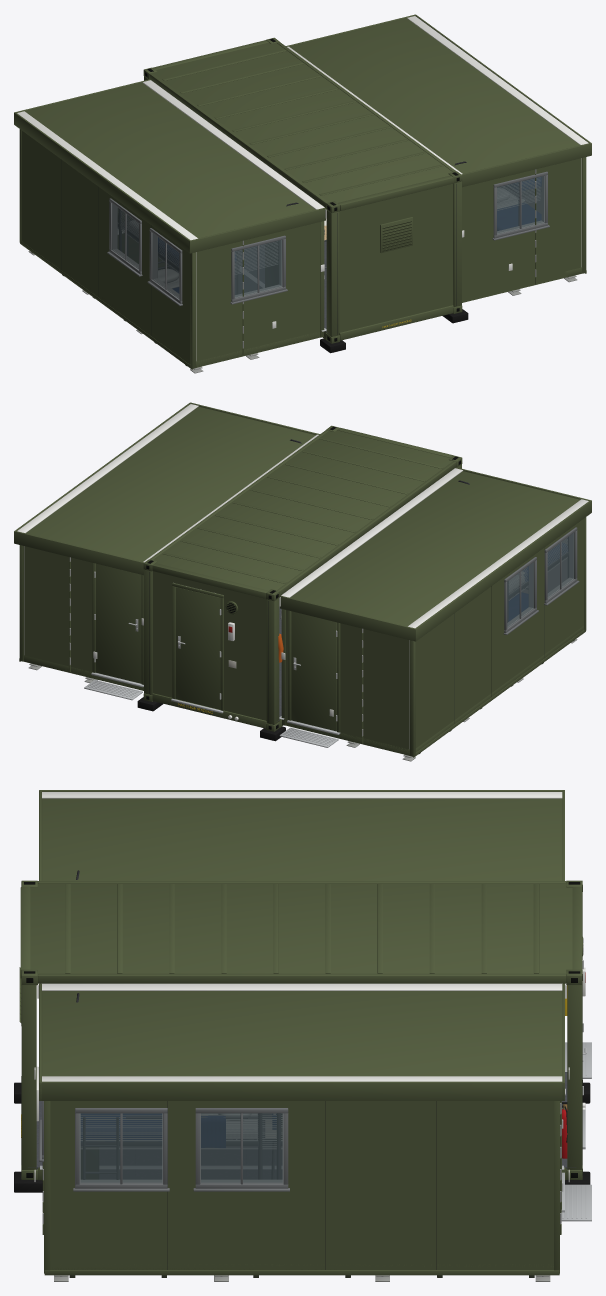
The model's file is hercon-deployed-fitted.glb.
The picture shows the model from 3 angles, top to bottom: view 1: azimuth 30°, elevation 25°; view 2: azimuth 150°, elevation 25°; view 3: azimuth 270°, elevation 25°; orthographic projection. The views are drawn at different scales.
Visible parts, largest first — view 1: HERCON_expansion_L, HERCON_core, HERCON_expansion_R, HERCON_fitout; view 2: HERCON_expansion_L, HERCON_core, HERCON_expansion_R, HERCON_fitout; view 3: HERCON_expansion_R, HERCON_core, HERCON_expansion_L, HERCON_fitout, HERCON_interior.
Part boxes in pixels (x1,y1,x2,y2): HERCON_expansion_L: (14, 79, 325, 373); HERCON_core: (143, 37, 468, 353); HERCON_expansion_R: (286, 14, 591, 302); HERCON_fitout: (118, 161, 540, 333); HERCON_expansion_L: (279, 467, 591, 761); HERCON_core: (137, 425, 462, 741); HERCON_expansion_R: (14, 402, 319, 700); HERCON_fitout: (277, 439, 568, 721); HERCON_expansion_R: (39, 983, 591, 1281); HERCON_core: (14, 880, 590, 1192); HERCON_expansion_L: (39, 790, 591, 1078); HERCON_fitout: (28, 870, 575, 1179); HERCON_interior: (34, 983, 569, 1182).
Size of the model in its own units: 7.48 by 2.56 by 6.24.
Materials: 50 (14 with a texture image).
